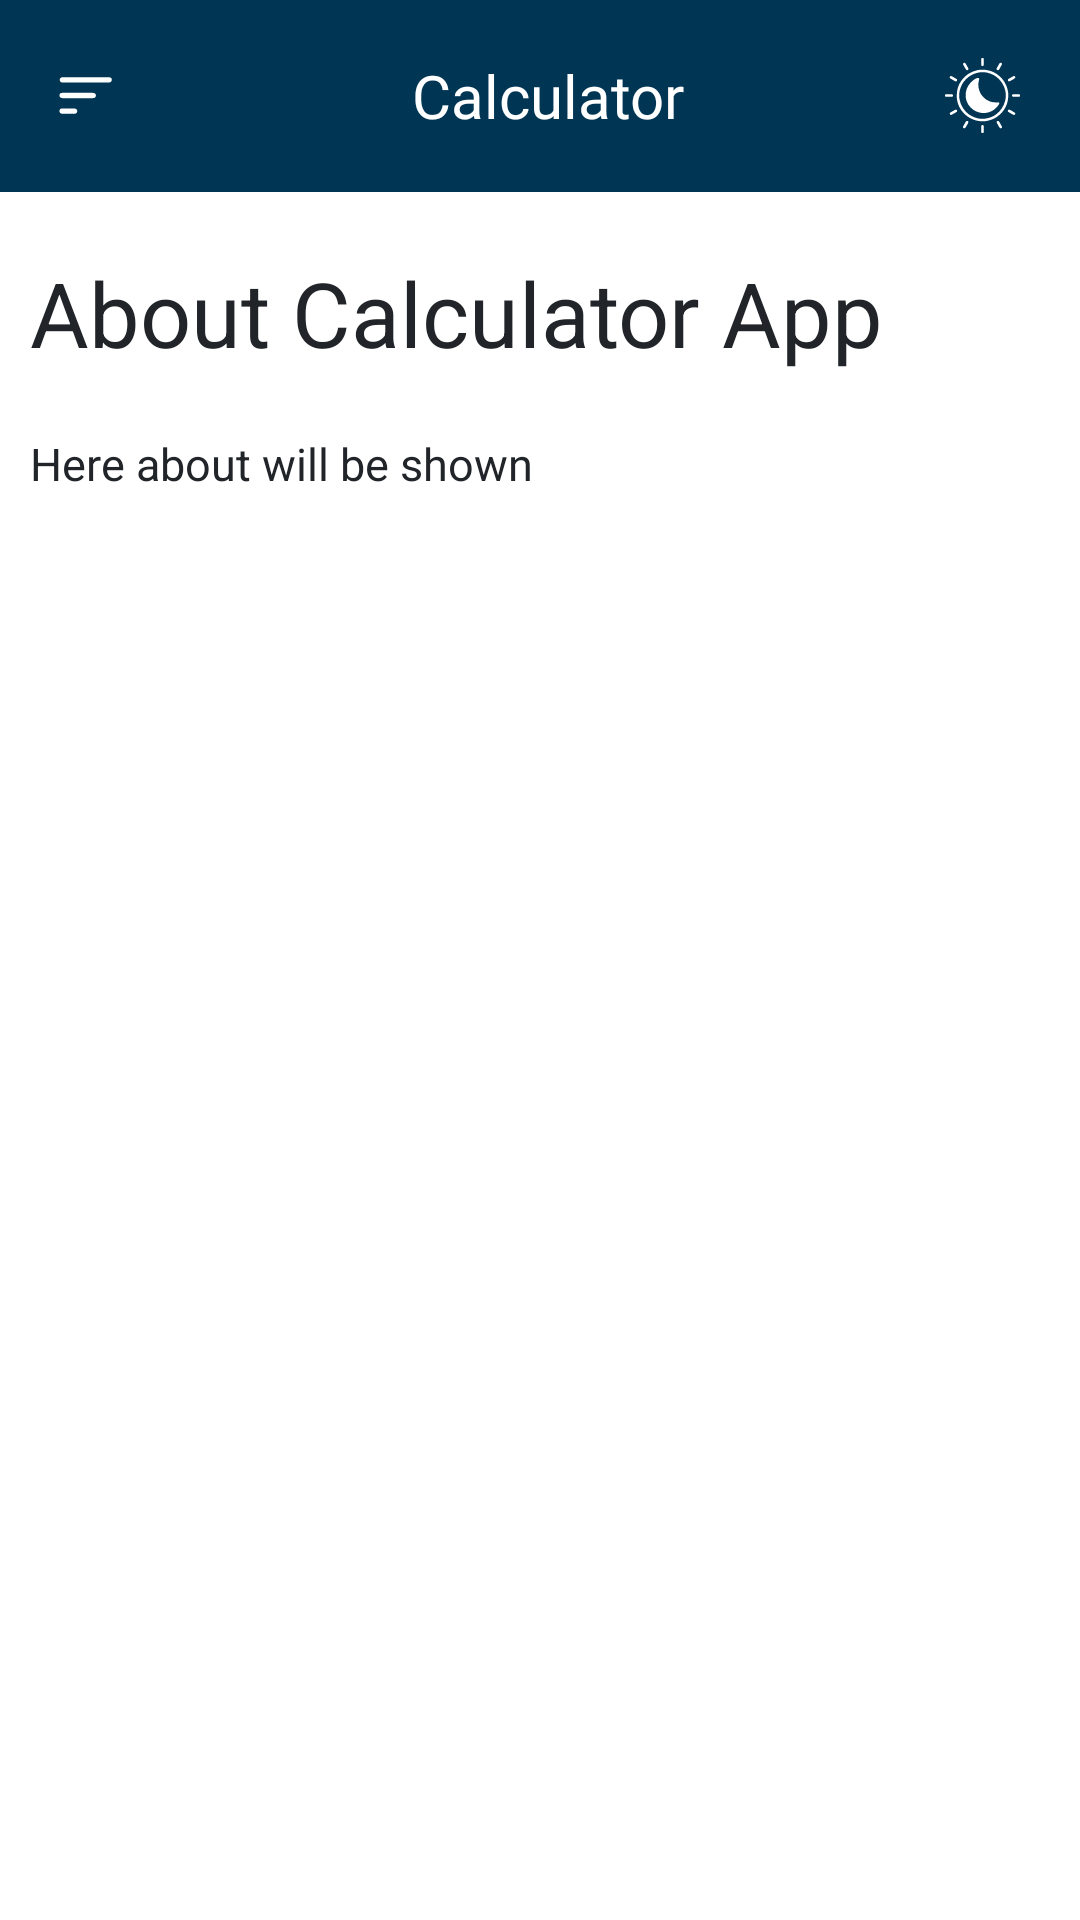

Where to tap for icons on this 1080px×1920px app screen, as (x,y):
change: (982,95)
option menu: (85,95)
